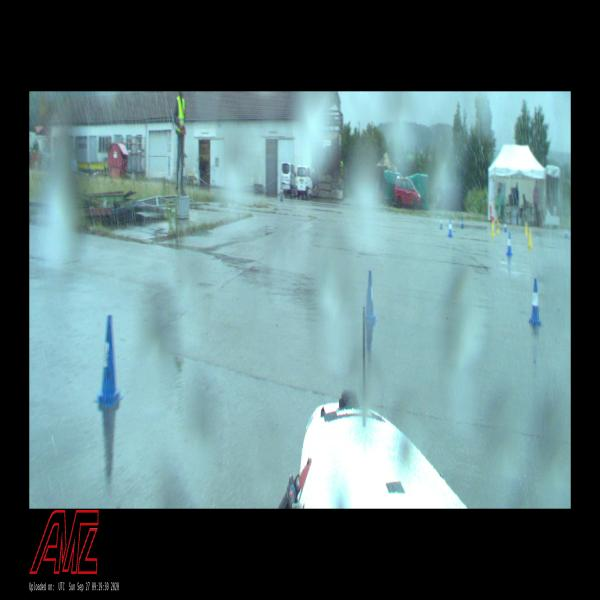blue_cone: (97, 315, 120, 404), (529, 279, 541, 324), (366, 271, 375, 322), (507, 232, 512, 255), (448, 219, 452, 237), (440, 214, 443, 229), (504, 222, 507, 232), (565, 226, 567, 238), (461, 218, 463, 228)
yellow_cone: (528, 231, 532, 248), (497, 222, 500, 233), (525, 224, 528, 234), (492, 222, 494, 236)
